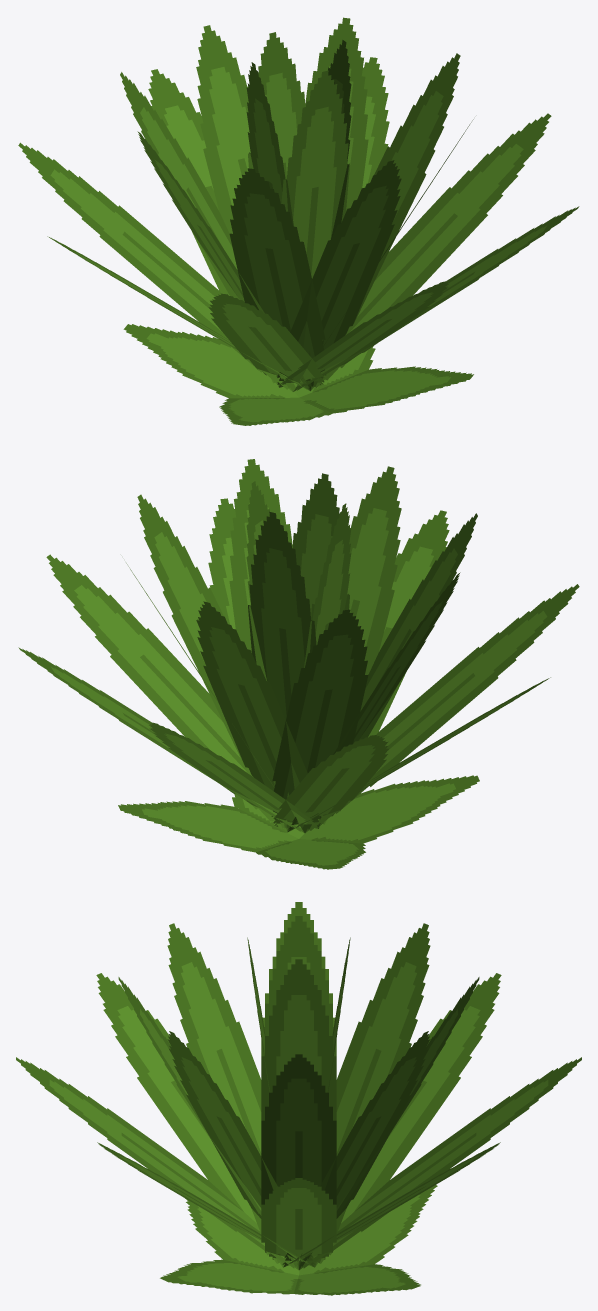
File: bush.glb
3 views of the same model, one above another, from view 1: azimuth 30°, elevation 25°; view 2: azimuth 150°, elevation 25°; view 3: azimuth 270°, elevation 25° (orthographic). The views are drawn at different scales.
Parts seen in each view (by area): view 1: Plane.051; view 2: Plane.051; view 3: Plane.051.
Boxes of the visible parts, left/top/right/bottom form: Plane.051: left=18, top=17, right=579, bottom=425; Plane.051: left=18, top=459, right=579, bottom=869; Plane.051: left=16, top=902, right=581, bottom=1295.
Size of the model in its own units: 0.9112 by 0.6001 by 0.9112.
Materials: 1 (1 with a texture image).
